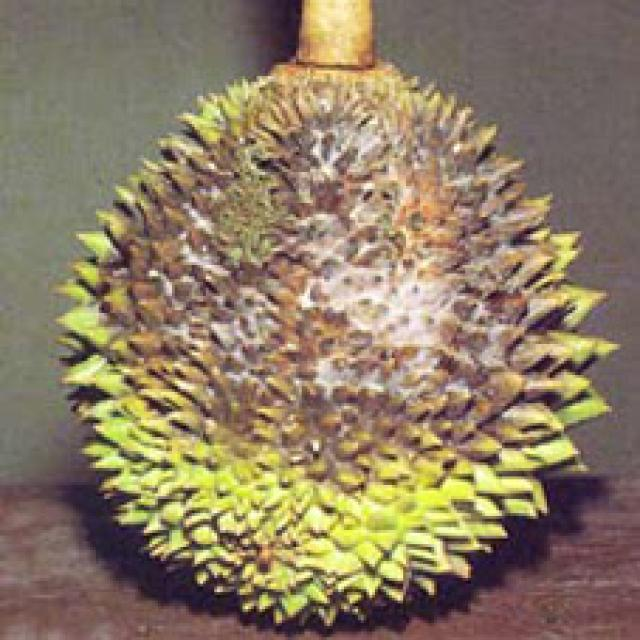defective: (58, 58, 622, 633)
